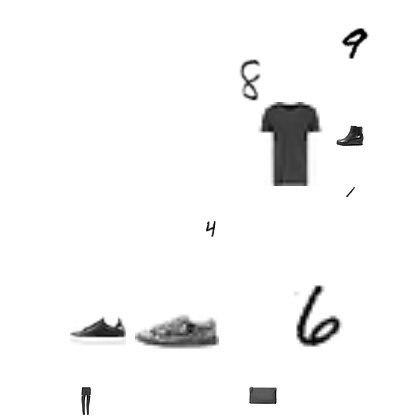1: (343, 185, 357, 199)
4: (200, 217, 222, 239)
6: (273, 280, 357, 364)
8: (220, 50, 276, 106)
9: (334, 18, 376, 60)
Ankle_boot: (336, 121, 364, 149)
Bag: (249, 381, 277, 409)
Sneaker: (135, 288, 219, 372), (70, 303, 126, 359)
T-shirt/top: (247, 102, 331, 186)
Trouser: (72, 387, 100, 415)
